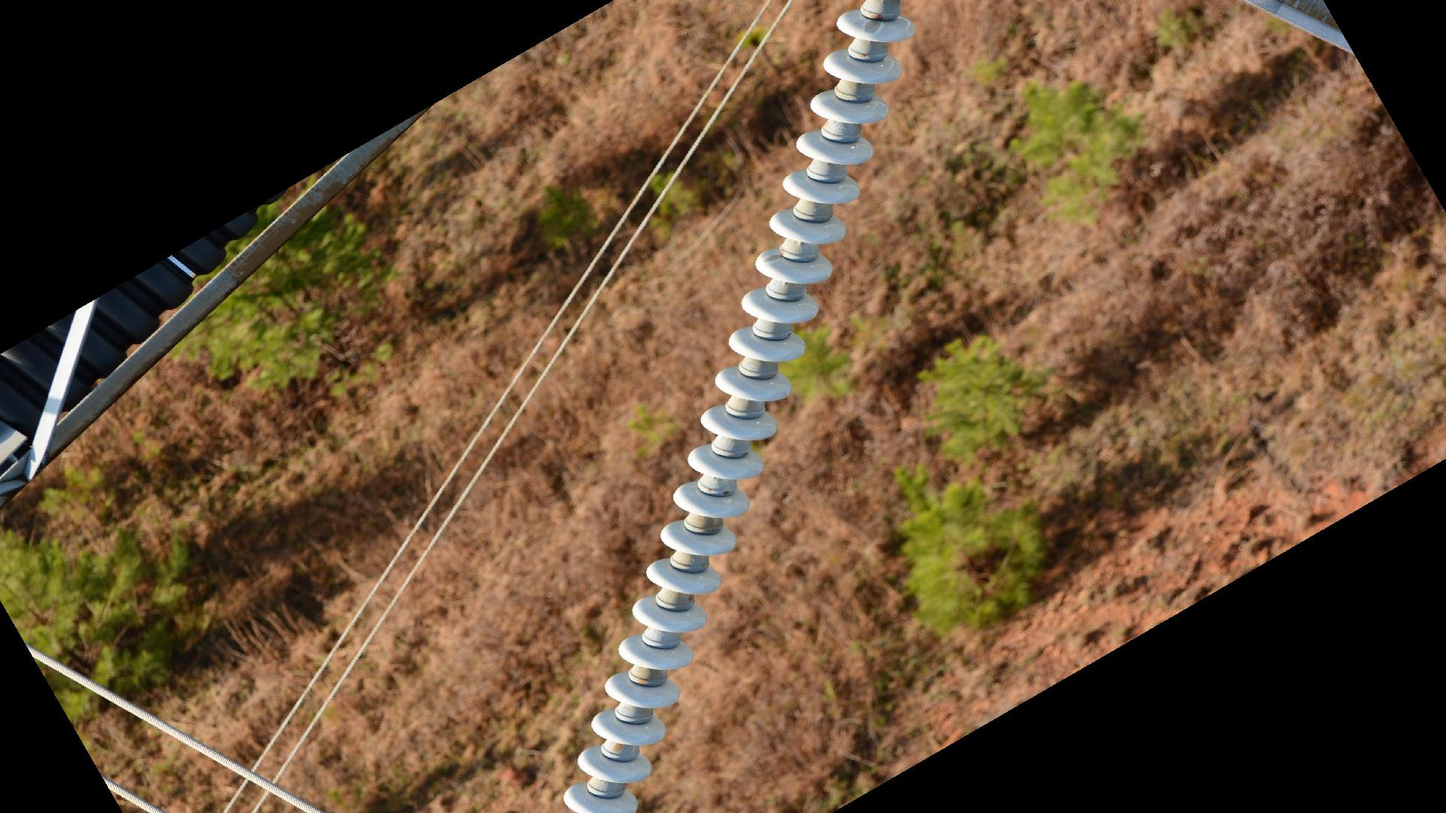insulator: (548, 1, 920, 813)
insulator_flashover: (861, 18, 883, 39)
